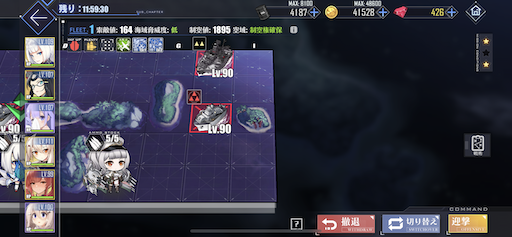lv2: (193, 36, 234, 76)
lv3: (187, 87, 232, 135)
